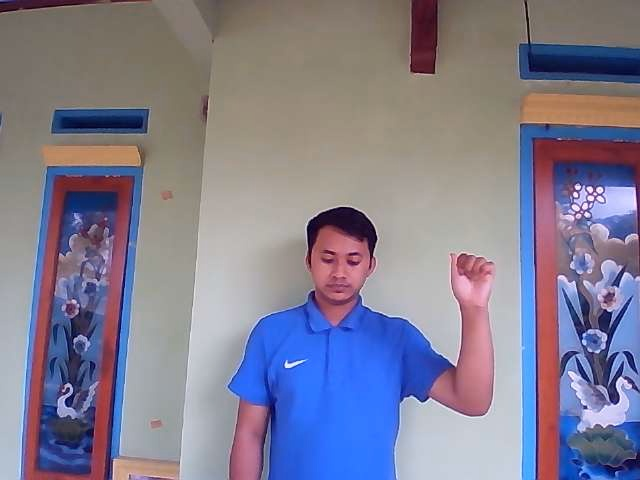A: (448, 251, 496, 309)
